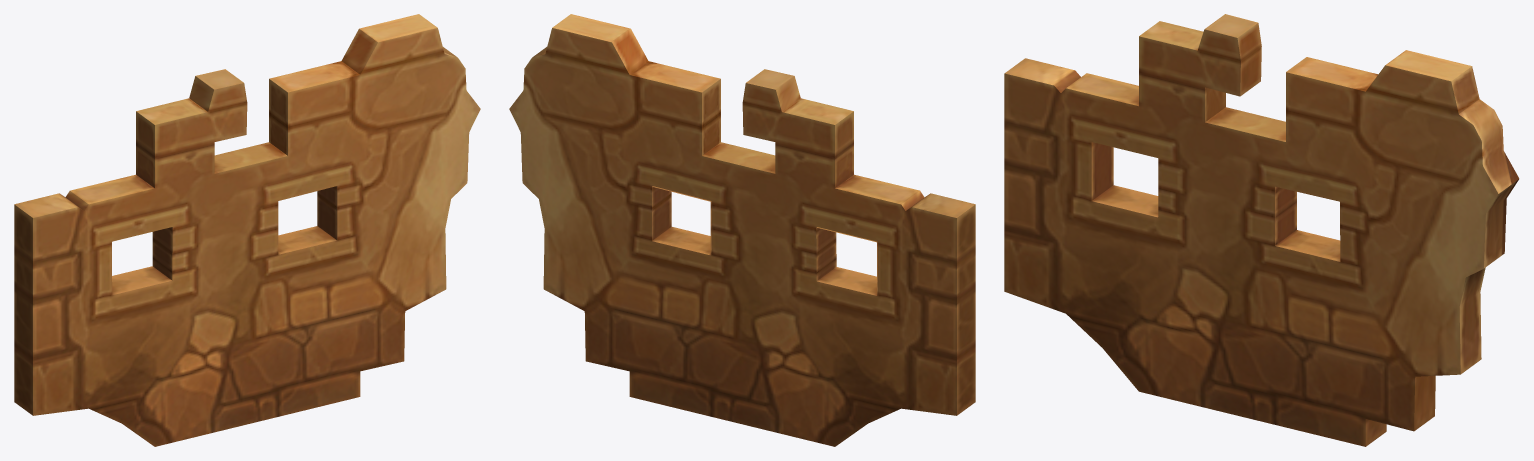
Rendered from Stage_ShaMo_QiangBi03.FBX.
3 renders of one model, left to right at view 1: azimuth 30°, elevation 25°; view 2: azimuth 150°, elevation 25°; view 3: azimuth 330°, elevation 25°, orthographic. The views are drawn at different scales.
Visible parts, largest first — view 1: Stage_ShaMo_QiangBi03; view 2: Stage_ShaMo_QiangBi03; view 3: Stage_ShaMo_QiangBi03.
Part boxes in pixels (x1=…): Stage_ShaMo_QiangBi03: x1=14, y1=14, x2=480, y2=446; Stage_ShaMo_QiangBi03: x1=509, y1=14, x2=975, y2=446; Stage_ShaMo_QiangBi03: x1=1004, y1=14, x2=1519, y2=446.
Bounding box in the file's own units: 500 × 374 × 38.37.
